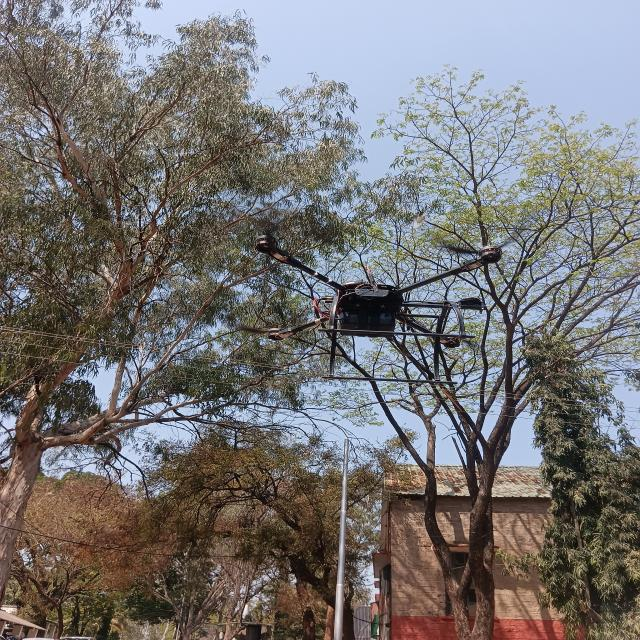drone: (213, 214, 540, 404)
